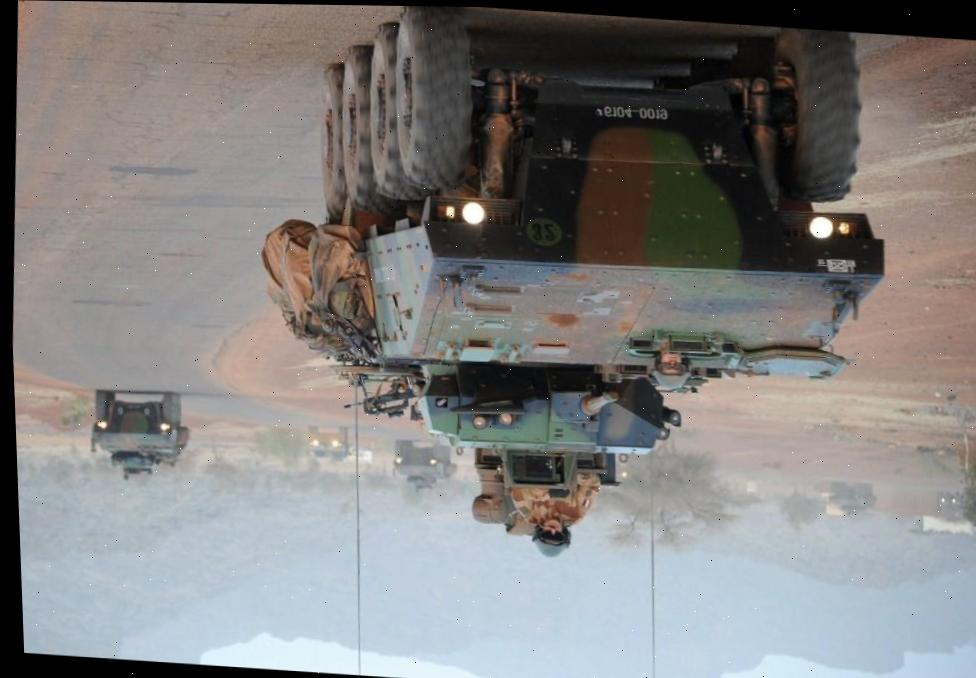armored_car: (303, 425, 351, 462)
tank: (240, 4, 923, 510), (83, 387, 195, 485), (387, 438, 459, 492), (825, 480, 878, 519)
